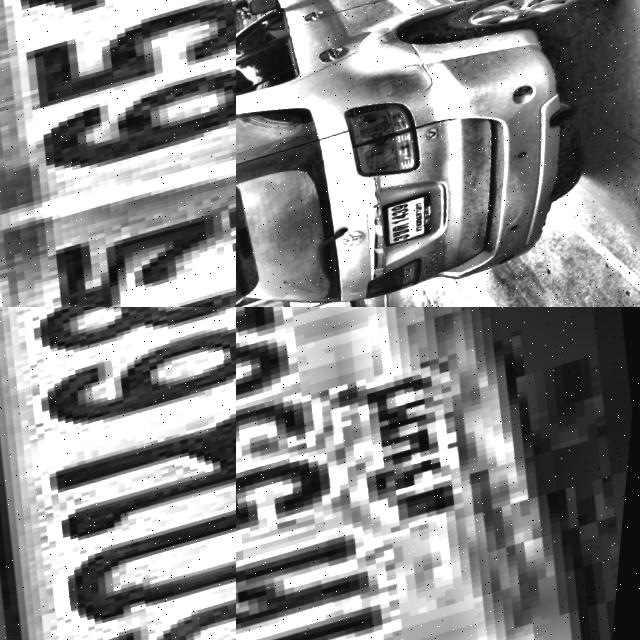license-plate: (236, 307, 640, 640), (0, 307, 236, 640), (0, 0, 236, 307), (384, 196, 447, 255)
